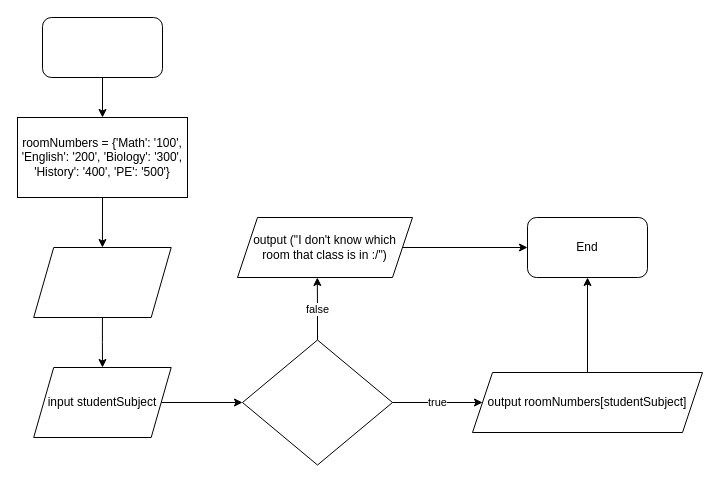
Some shapes in this 720 by 483 pixel diagram are drawn without their labels. Here are the shapes that lost their labels. From the top down, the box of each, then its label:
(42, 16, 162, 78): Start
(33, 246, 171, 318): input studentName
(242, 339, 392, 465): if (studentSubject in roomNumbers)
